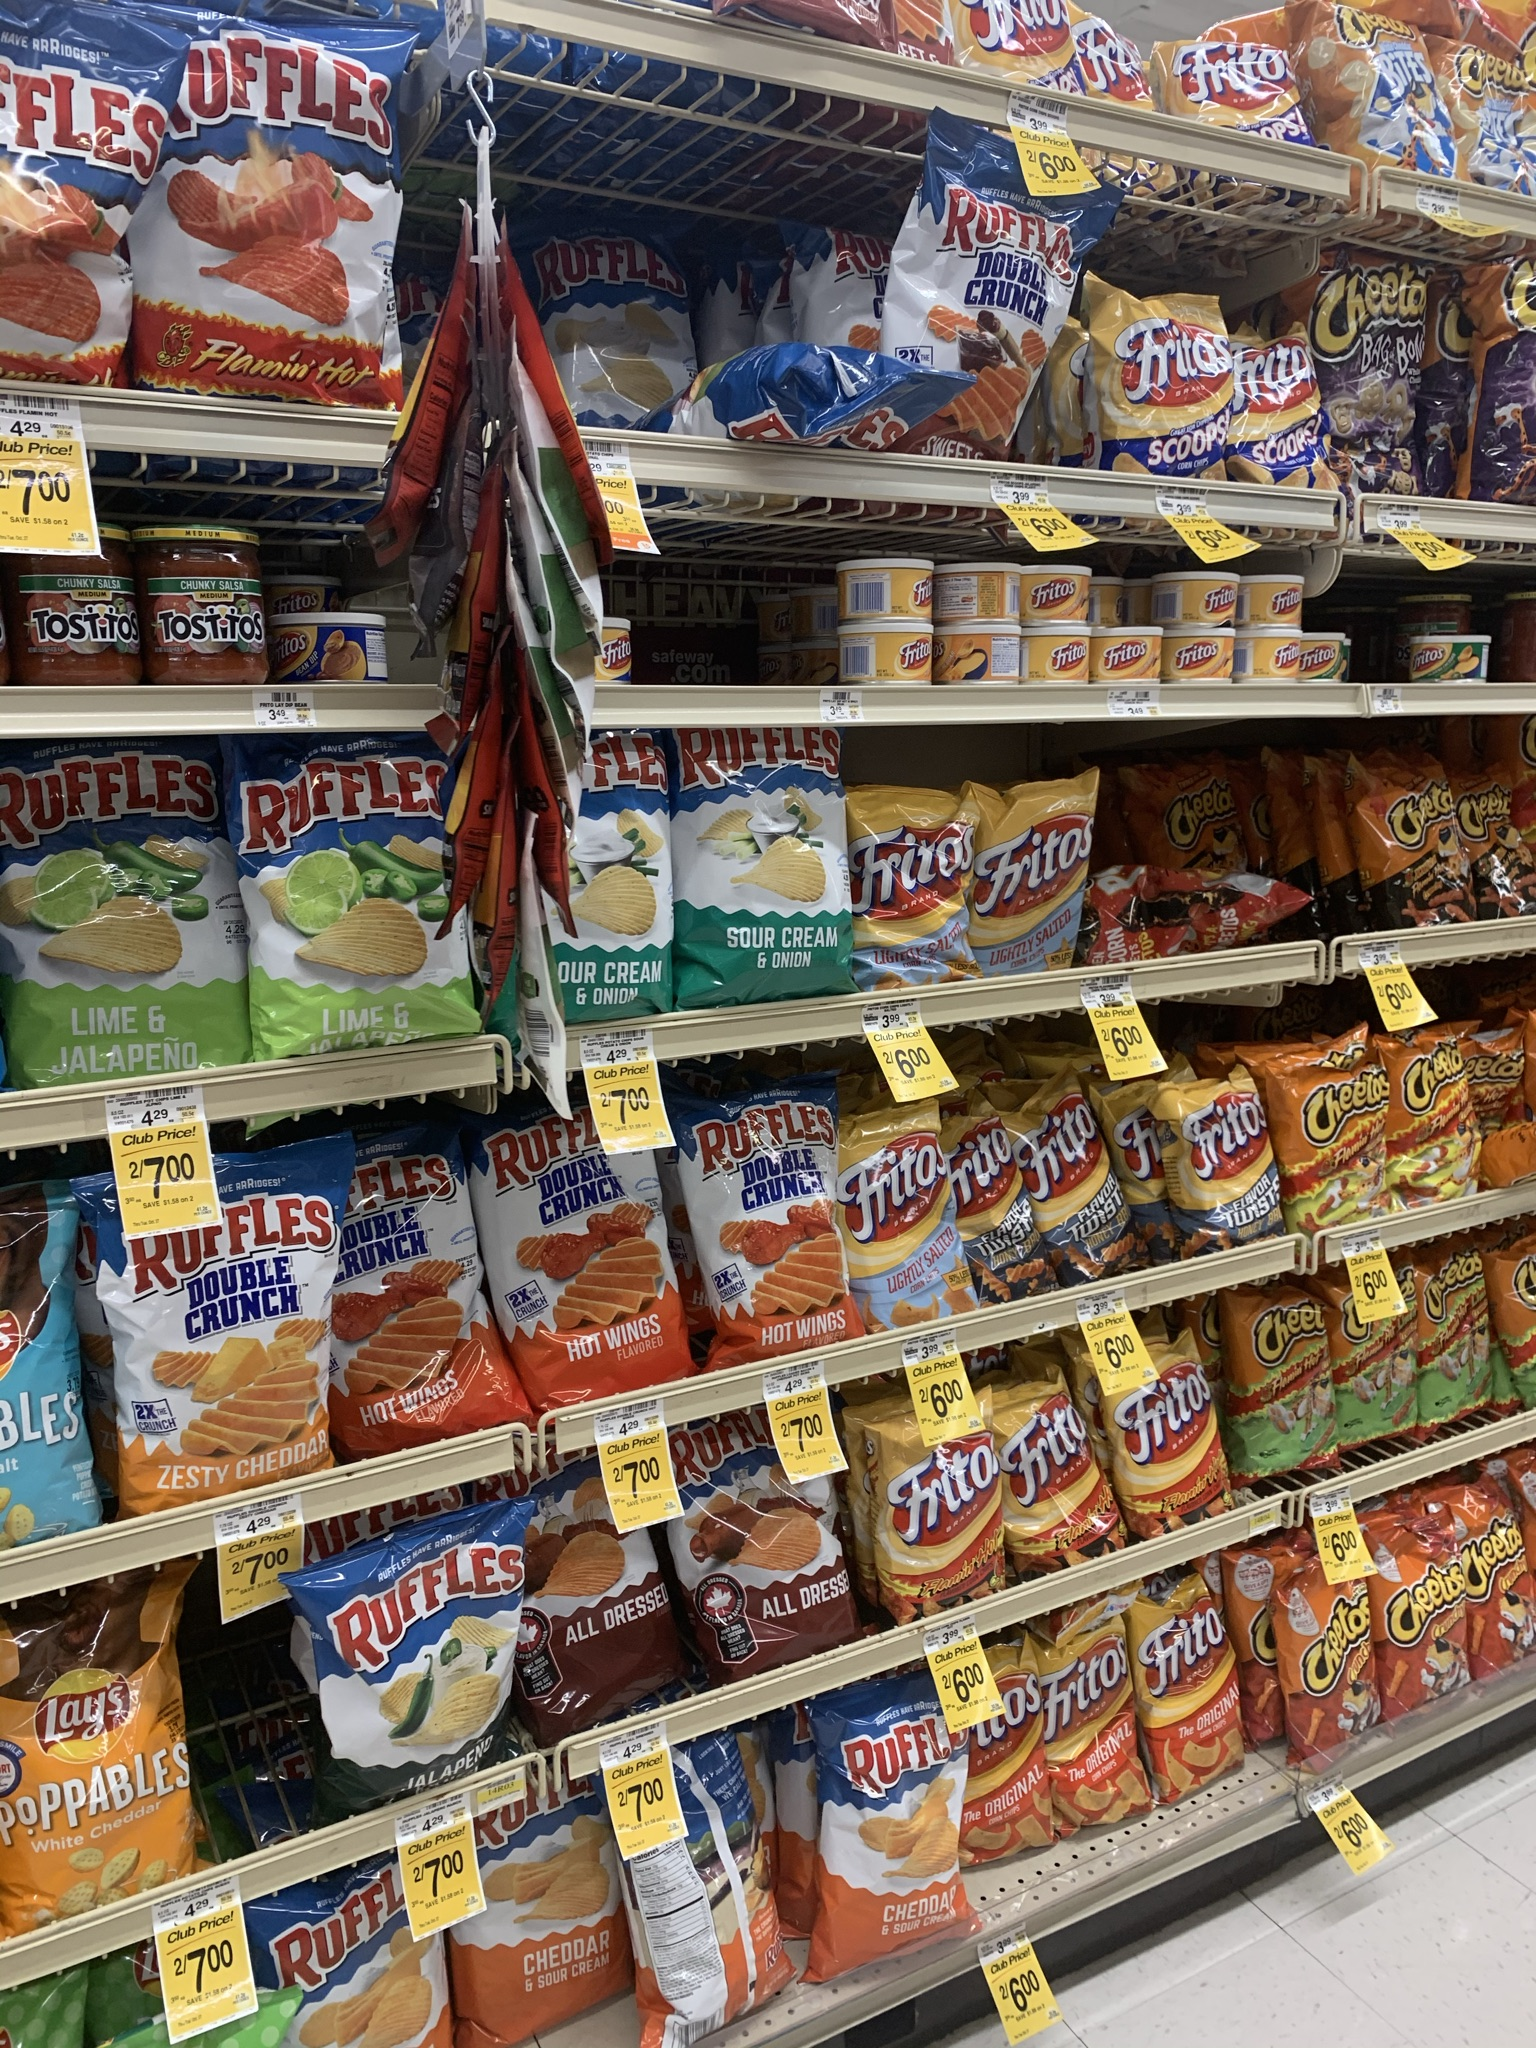chip: (168, 15, 405, 406), (90, 1176, 340, 1498), (227, 748, 490, 1053), (2, 1564, 207, 1945), (278, 1142, 515, 1440), (2, 748, 224, 1059), (2, 19, 186, 373), (305, 1517, 516, 1796), (494, 1108, 686, 1398), (812, 1671, 983, 1975), (679, 731, 866, 1008), (666, 1072, 849, 1353), (905, 97, 1042, 456), (663, 1419, 857, 1671), (641, 1716, 786, 2046), (458, 1764, 616, 2048), (250, 1842, 426, 2048), (866, 1376, 1004, 1617), (970, 1353, 1113, 1564), (841, 1108, 973, 1330), (850, 772, 983, 993), (1092, 1334, 1238, 1527), (1265, 1014, 1391, 1230), (926, 1098, 1058, 1300), (1392, 1234, 1520, 1421), (1279, 1538, 1379, 1774), (1233, 1293, 1347, 1480), (1163, 1040, 1270, 1238), (966, 1637, 1055, 1874), (1379, 1018, 1494, 1200), (1142, 1572, 1220, 1822), (1039, 1077, 1133, 1274), (1333, 1256, 1428, 1447), (1384, 1496, 1467, 1709), (1065, 1598, 1133, 1846)
